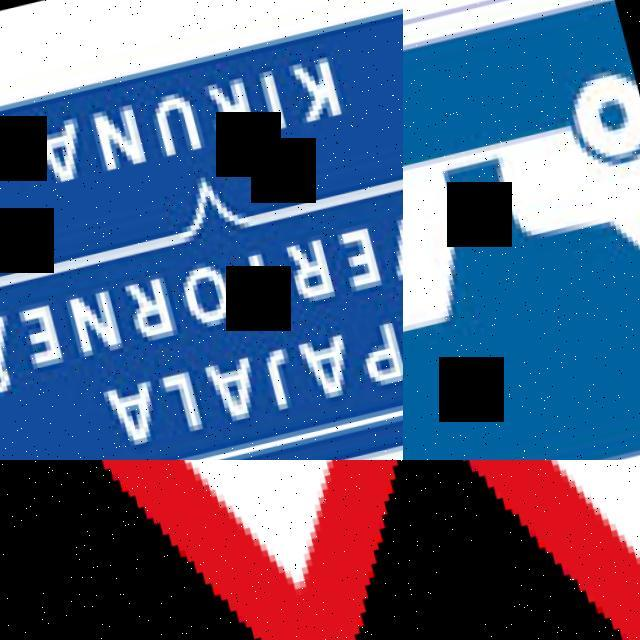106: (0, 0, 403, 460)
69: (403, 0, 640, 460)
Oblique side road junction: (403, 460, 640, 640)
Steep ascent: (0, 460, 403, 640)
